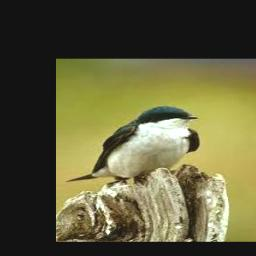Swallow: (67, 106, 199, 183)
